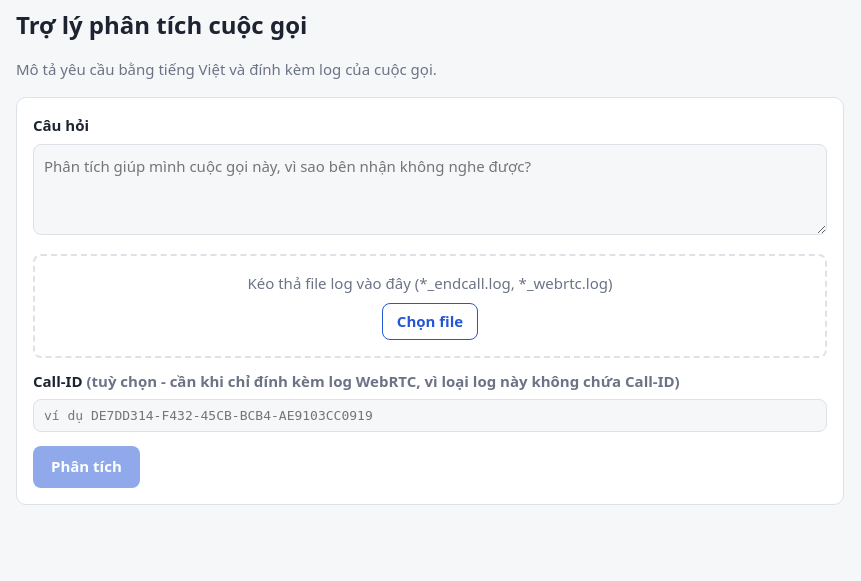
Test: App › explains when the backend cannot be reached
Type "Phân tích" into the text box labelled "Câu hỏi" at (430, 190), box [33,144,827,236]
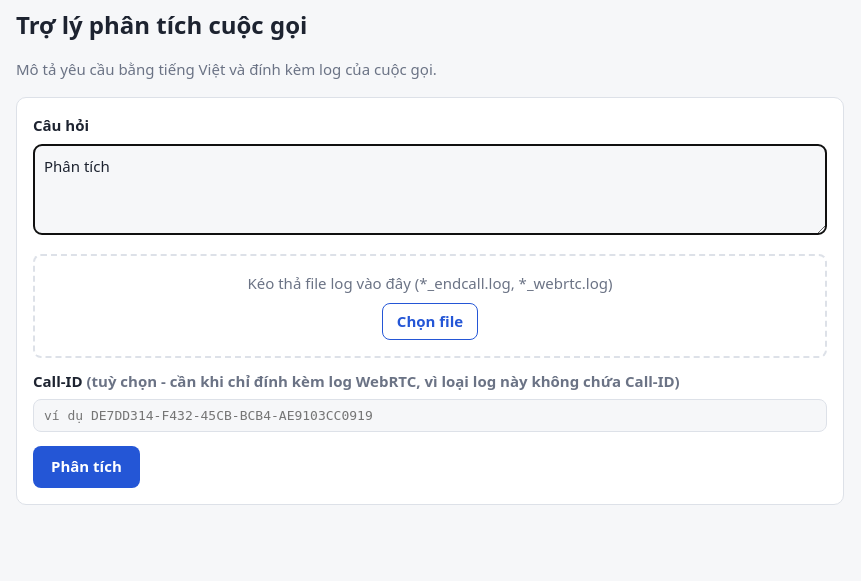
Click the button "Phân tích" at (86, 467), box [33,446,140,488]
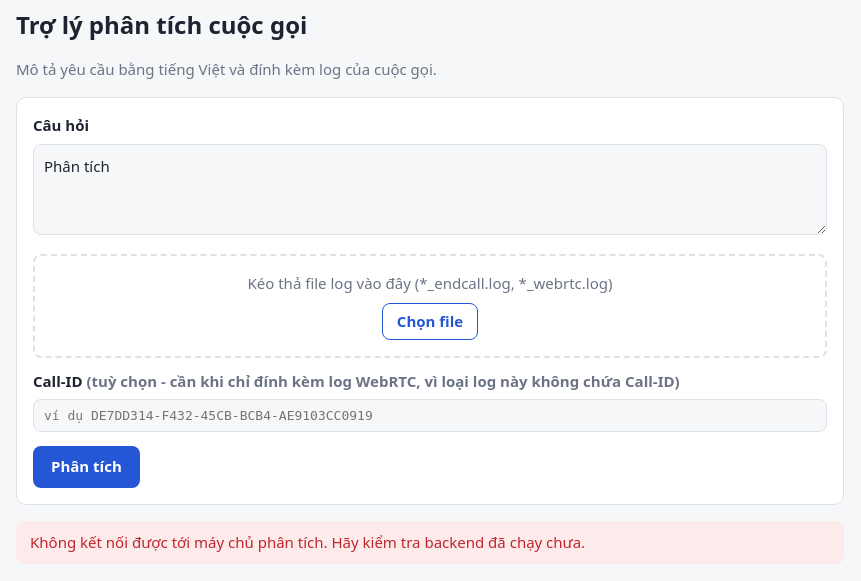
Now the message shows "Không kết nối được", box [30,532,585,552]
